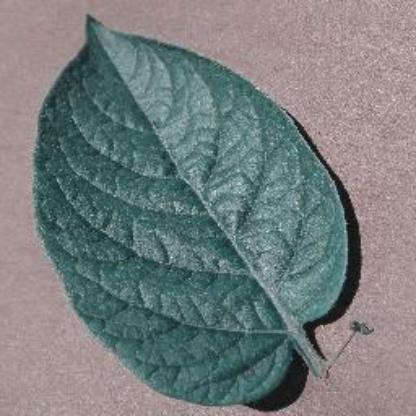Healthy-plant: (29, 10, 356, 410)
